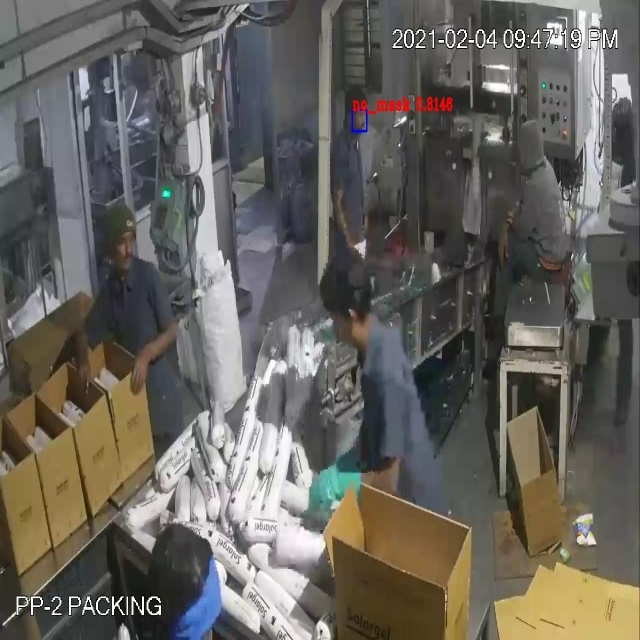Guantes: (300, 456, 371, 524)
Sin_guantes: (321, 177, 366, 265), (130, 318, 182, 394), (68, 312, 98, 404), (492, 212, 516, 277)
